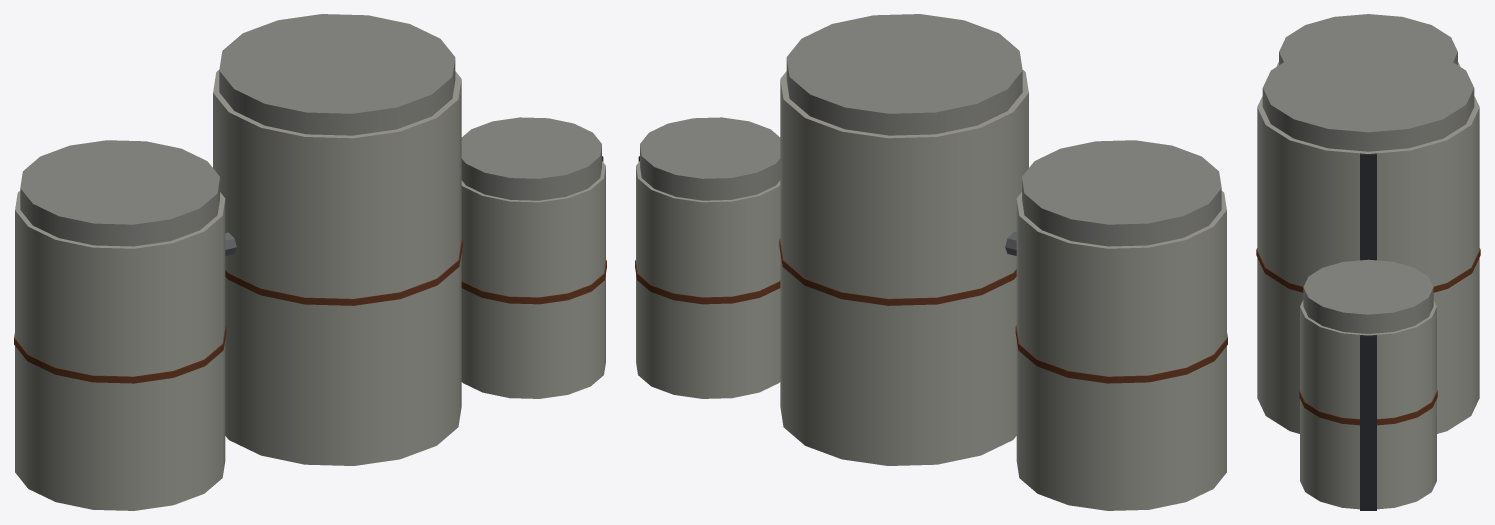
Rendered from bg_industrial_tanks_1_lod0.glb.
The picture shows the model from 3 angles, left to right: view 1: azimuth 30°, elevation 25°; view 2: azimuth 150°, elevation 25°; view 3: azimuth 270°, elevation 25°; orthographic projection. The views are drawn at different scales.
Parts seen in each view (by area): view 1: body; view 2: body; view 3: body.
Boxes of the visible parts, left/top/right/bottom form: body: left=14, top=14, right=606, bottom=510; body: left=635, top=14, right=1227, bottom=510; body: left=1256, top=14, right=1480, bottom=510.
Bounding box in the file's own units: 9 × 5.27 × 3.45.
